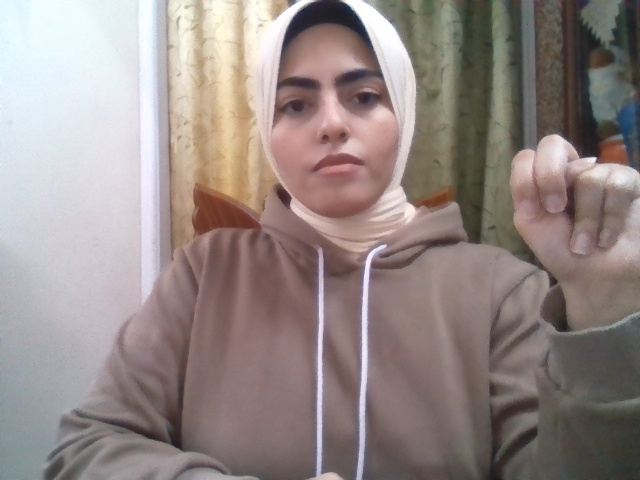N: (509, 134, 640, 286)
